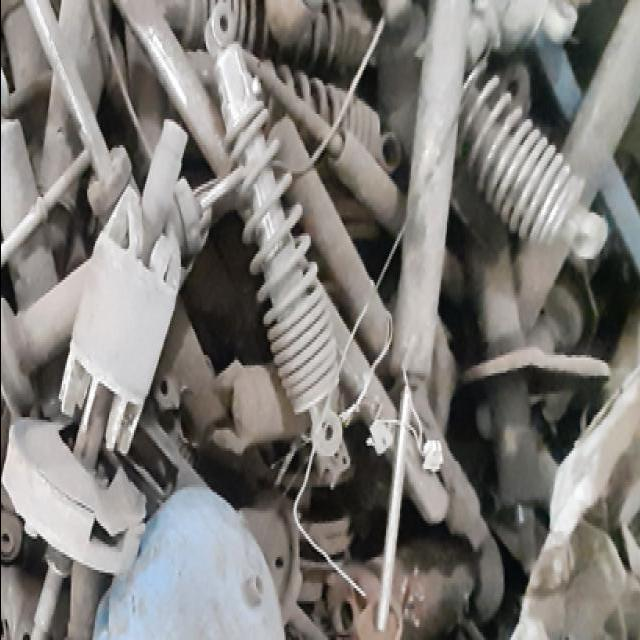shock absorber: (376, 5, 469, 632), (204, 0, 339, 412), (460, 75, 606, 257)
